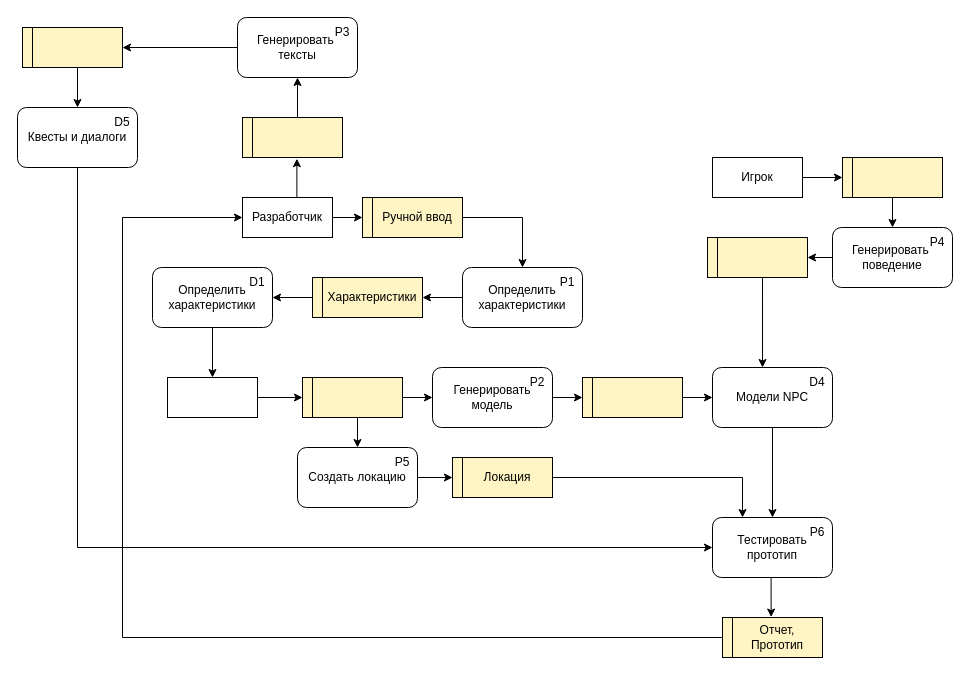
This 970x675 diagram has some shape labels left out. Each missing label, with the centre of its shape:
"3D-модель, портрет" goes at (x=637, y=397).
"API Meshy/Tripo3D" goes at (x=212, y=397).
"Датасеты" goes at (x=357, y=397).
"Логи игрока" goes at (x=897, y=177).
"Модель поведения" goes at (x=762, y=257).
"Промты" goes at (x=297, y=137).
"Текст, Квест" goes at (x=77, y=47).
